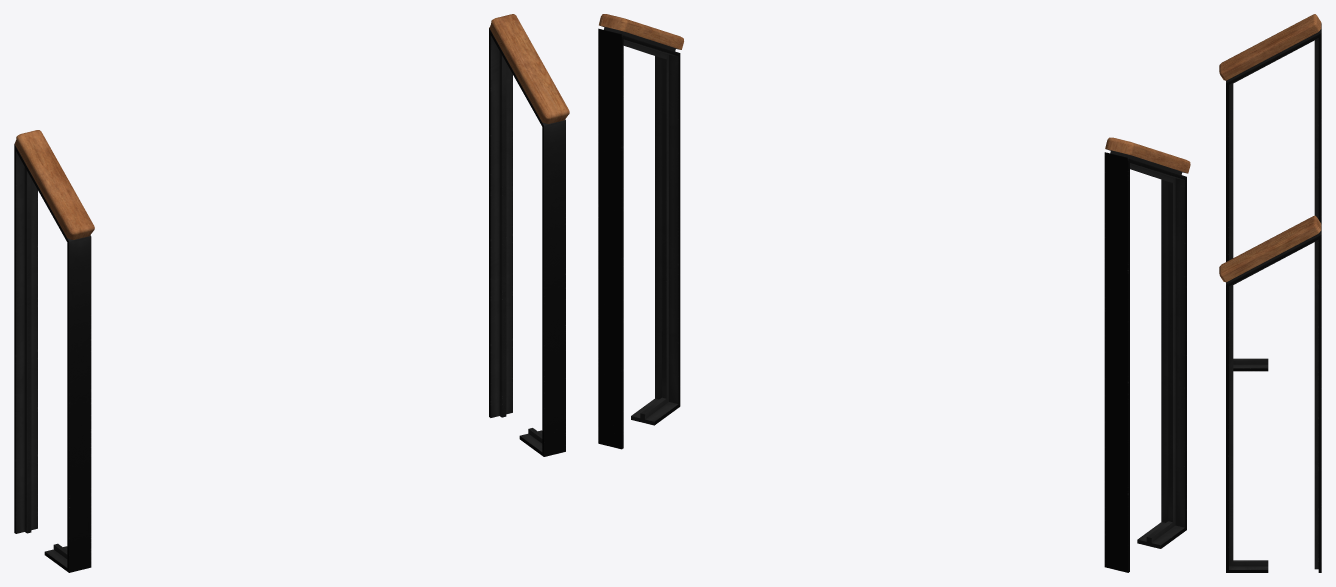
File: Handrails.FBX
3 views of the same model, side by side, from view 1: azimuth 30°, elevation 25°; view 2: azimuth 150°, elevation 25°; view 3: azimuth 270°, elevation 25° (orthographic). The views are drawn at different scales.
Visible parts, largest first — view 1: Handrails; view 2: Handrails; view 3: Handrails.
Part boxes in pixels (x1=…): Handrails: x1=14, y1=14, x2=569, y2=572; Handrails: x1=598, y1=14, x2=1190, y2=572; Handrails: x1=1219, y1=14, x2=1321, y2=572.
Size of the model in its own units: 94.76 by 72.55 by 19.26.
